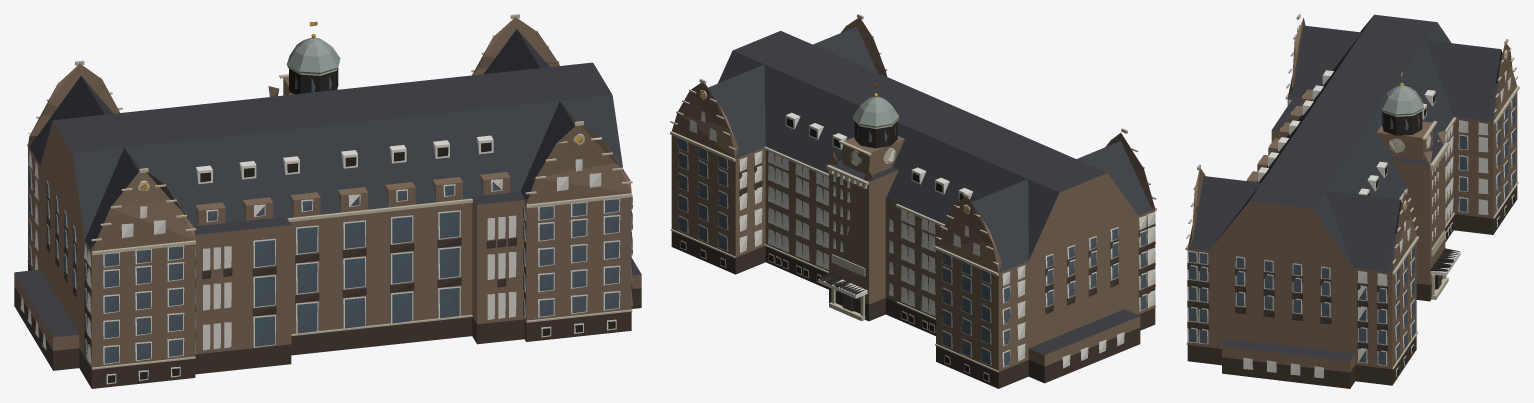
The model's file is lloyd-hotel.lod1.glb.
The picture shows the model from 3 angles, left to right: view 1: azimuth 30°, elevation 25°; view 2: azimuth 150°, elevation 25°; view 3: azimuth 270°, elevation 25°; orthographic projection. The views are drawn at different scales.
Visible parts, largest first — view 1: lloyd-hotel; view 2: lloyd-hotel; view 3: lloyd-hotel.
Part boxes in pixels (x1=…): lloyd-hotel: x1=14, y1=14, x2=641, y2=388; lloyd-hotel: x1=670, y1=14, x2=1156, y2=388; lloyd-hotel: x1=1185, y1=14, x2=1519, y2=388.
Bounding box in the file's own units: 62.91 × 28.65 × 40.65.
